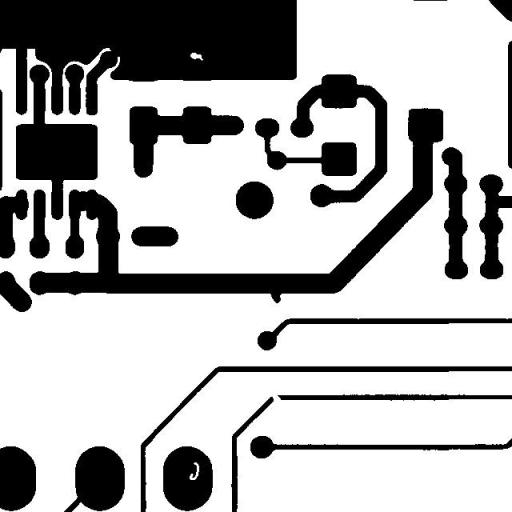open: (263, 383, 288, 411)
pin-hole: (182, 454, 206, 488), (182, 45, 210, 68)
short: (70, 184, 96, 218), (102, 37, 128, 64)
spur: (262, 281, 289, 310)
